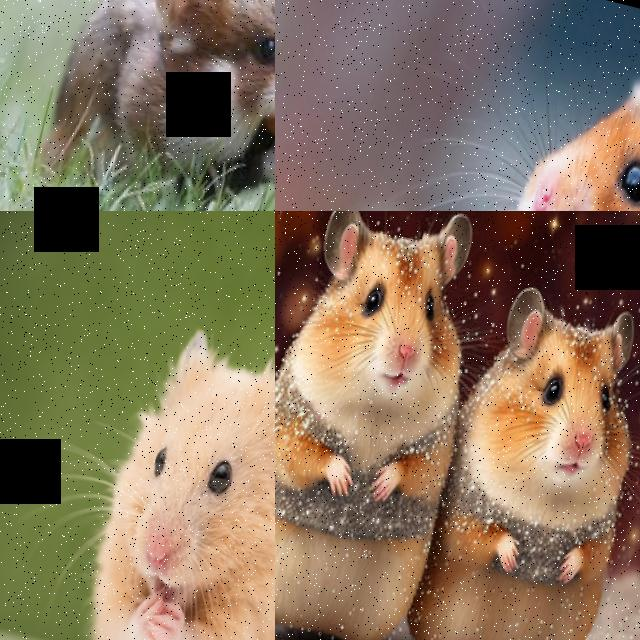hamster: (275, 211, 507, 640), (388, 268, 640, 640), (37, 312, 275, 640), (27, 0, 275, 211), (447, 51, 640, 211)
